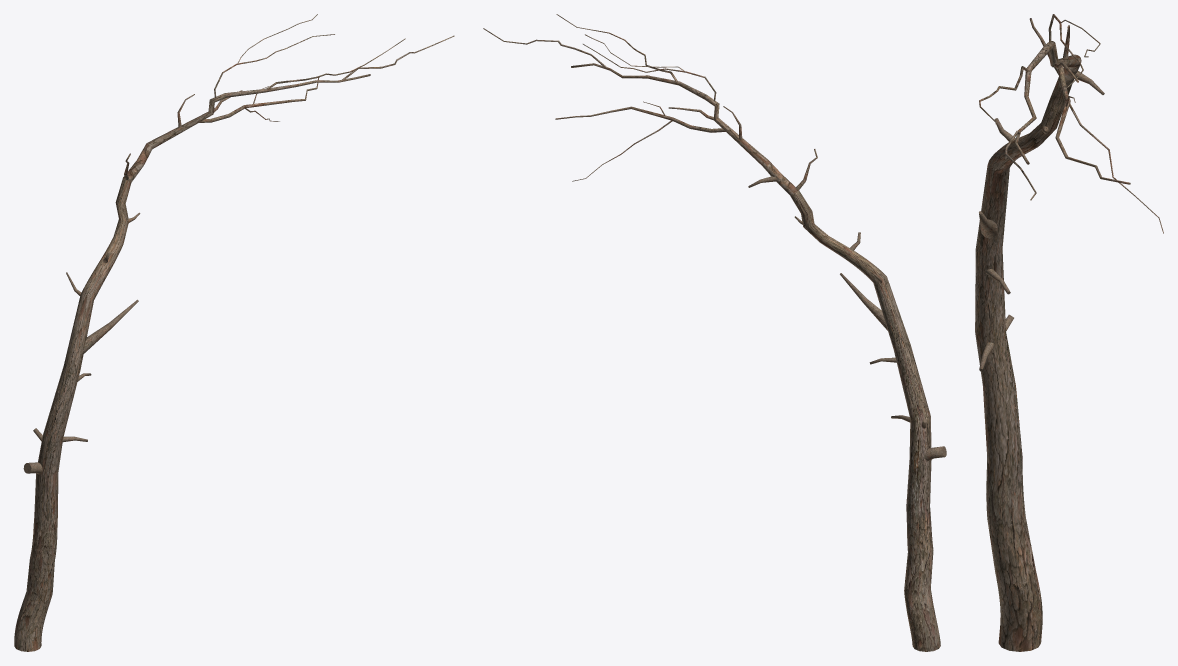
Rendered from tree.obj.
3 views of the same model, side by side, from view 1: azimuth 30°, elevation 25°; view 2: azimuth 150°, elevation 25°; view 3: azimuth 270°, elevation 25° (orthographic). The views are drawn at different scales.
Visible parts, largest first — view 1: Vert_Vert.019; view 2: Vert_Vert.019; view 3: Vert_Vert.019, Vert.008_Vert.027, Vert.003_Vert.022, Vert.012_Vert.031.
Part boxes in pixels (x1,y1,x2,y2): Vert_Vert.019: (14, 74, 370, 651); Vert_Vert.019: (571, 63, 940, 651); Vert_Vert.019: (975, 41, 1081, 651); Vert.008_Vert.027: (1055, 66, 1130, 184); Vert.003_Vert.022: (979, 211, 998, 238); Vert.012_Vert.031: (1069, 103, 1163, 233).
Bounding box in the file's own units: 2.64 × 3.07 × 0.643.
